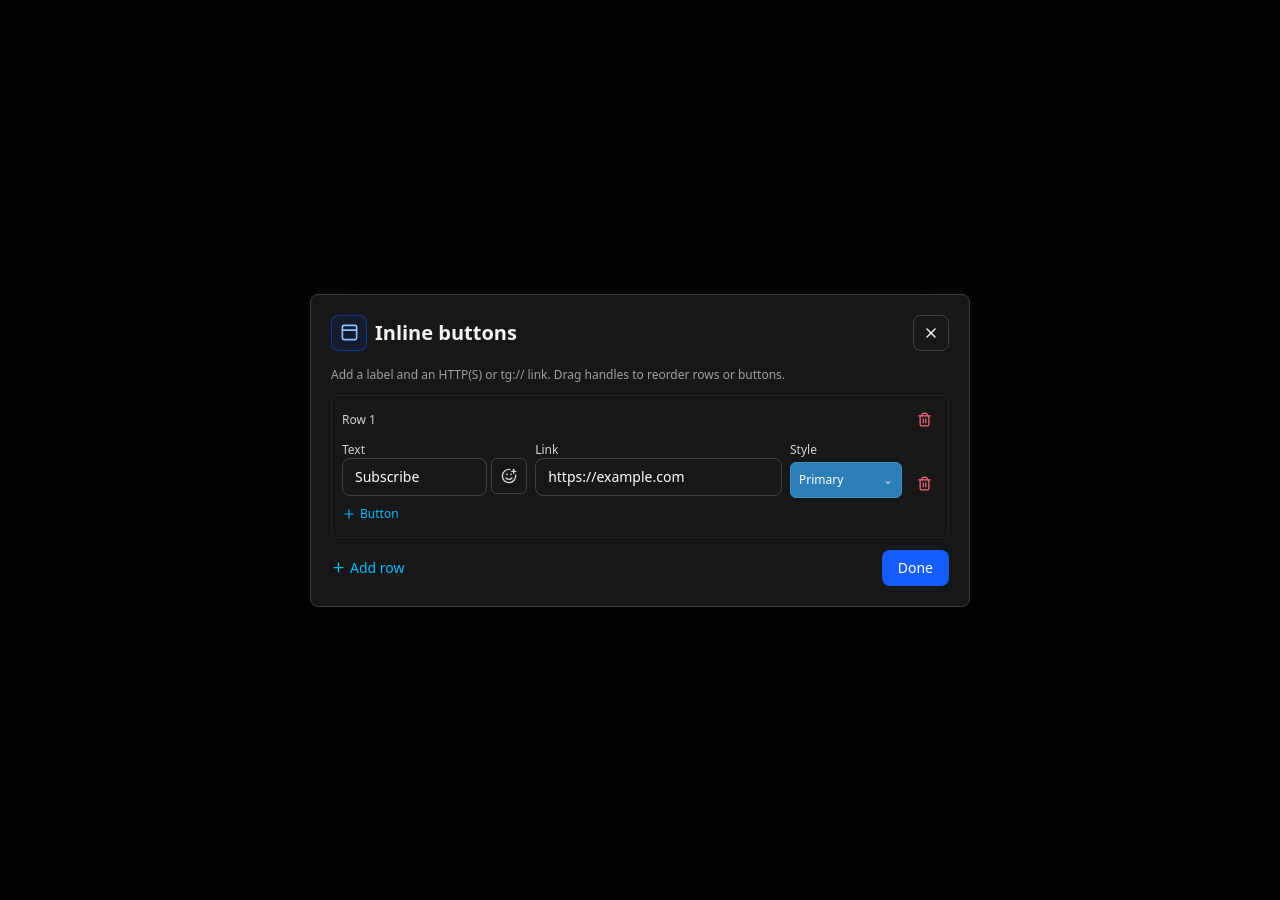
Scenario: TelegramInlineKeyboardEditor › stores and visibly confirms a Premium emoji as the native button icon
Click the button named "Emoji": point(509, 476) [491,458,527,494]
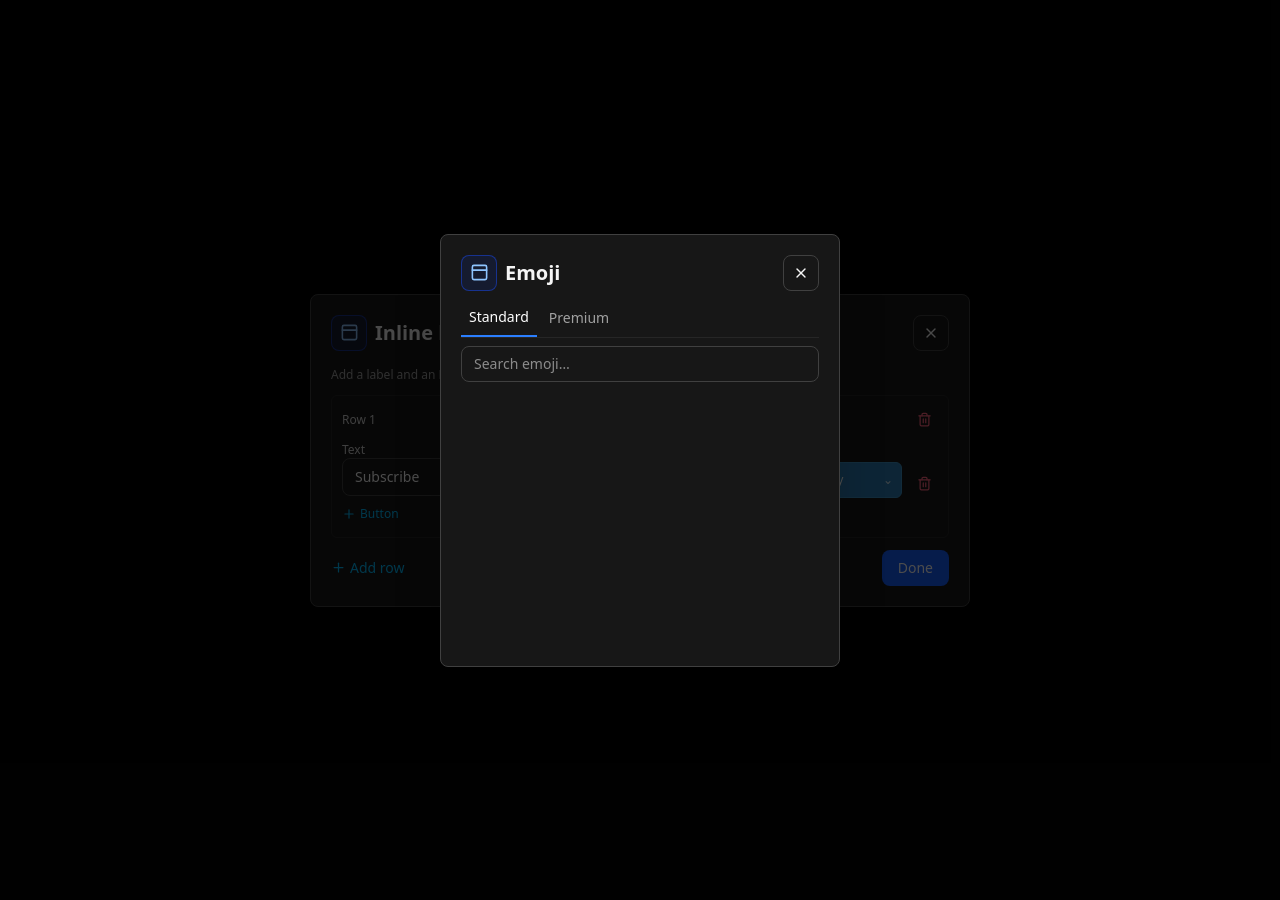
Click the button "Premium": point(579, 322) [541,306,617,336]
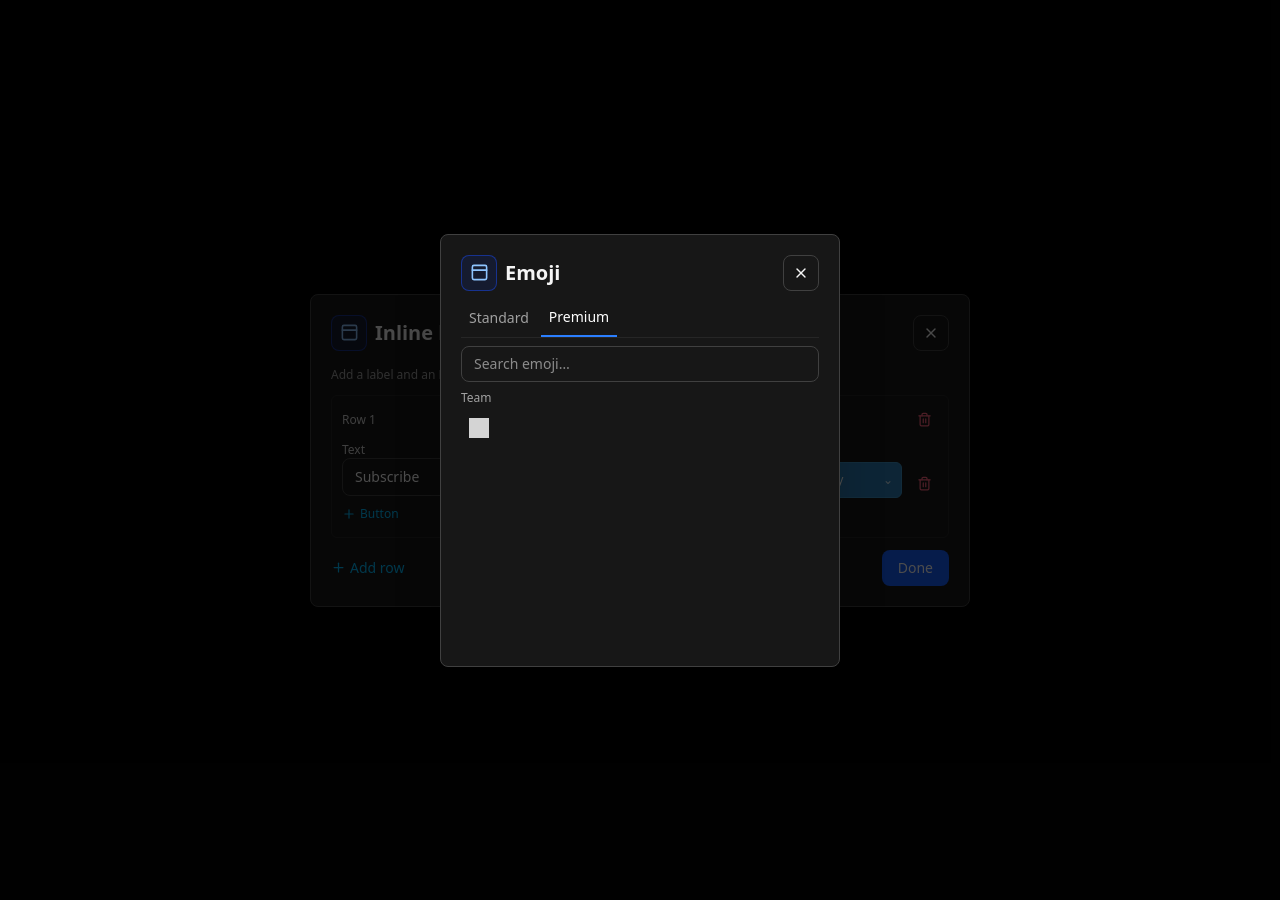
Click the button named "Insert horn": point(479, 428) [461,410,497,446]
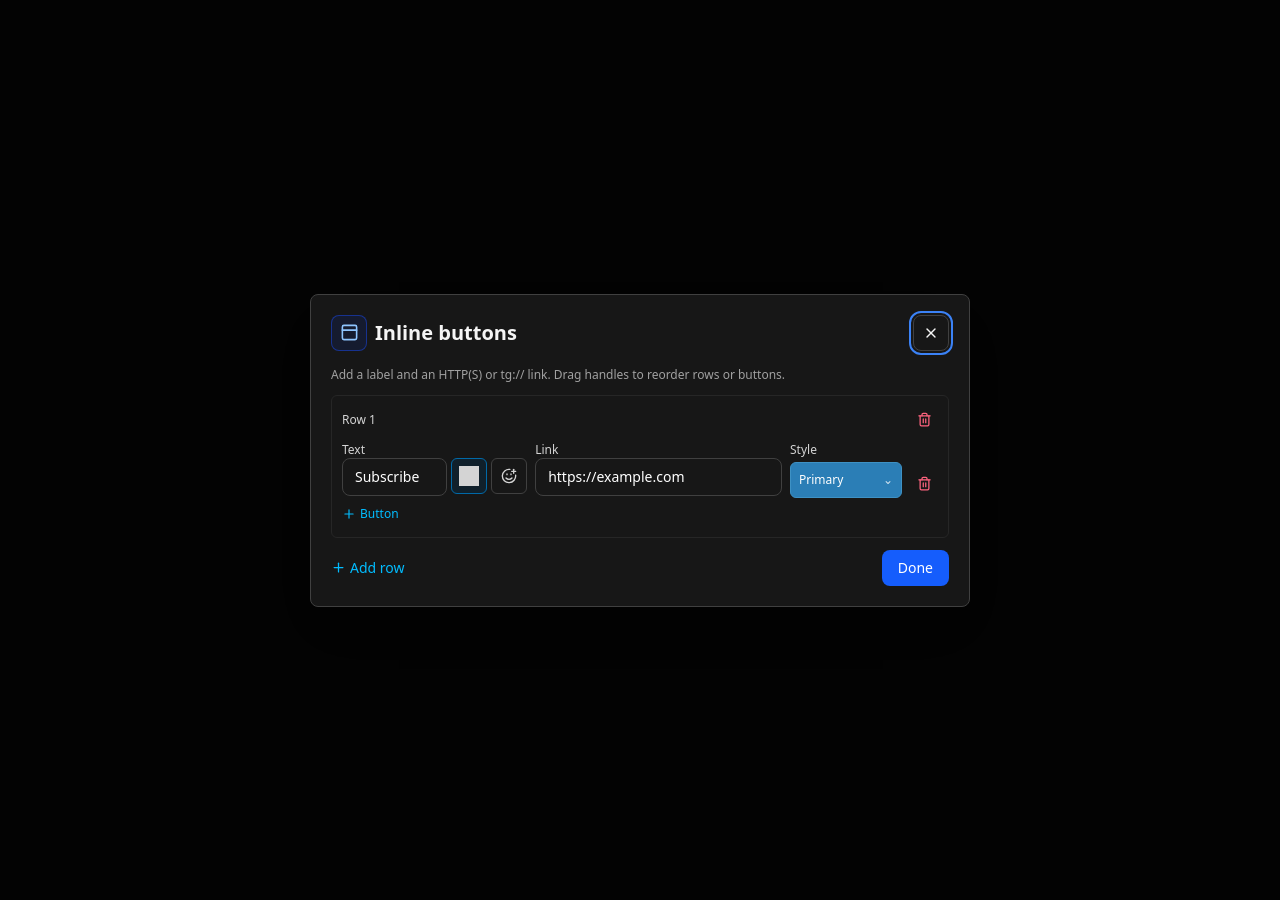
Expected: the element named "Premium" is shown, [451,458,487,494]
